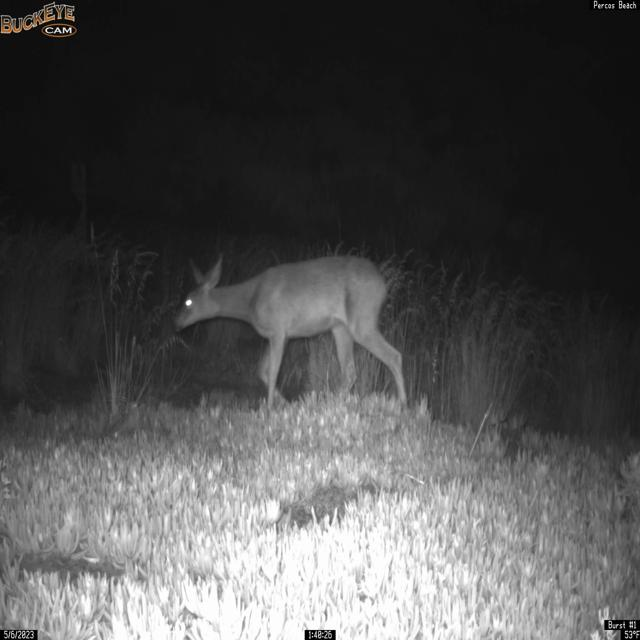deer: (172, 252, 409, 412)
